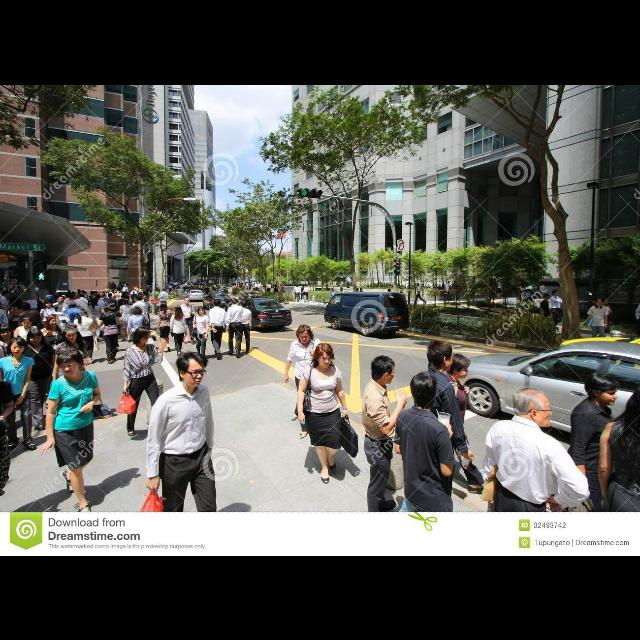head: (513, 387, 553, 427), (586, 372, 618, 406), (177, 351, 205, 387), (410, 371, 438, 401), (428, 340, 454, 370), (369, 356, 396, 384), (59, 348, 83, 377), (448, 354, 469, 378), (316, 343, 334, 369), (9, 336, 27, 356), (136, 326, 152, 344), (298, 324, 312, 344), (64, 323, 78, 342), (28, 328, 44, 344), (1, 324, 12, 340), (21, 314, 33, 328), (48, 314, 60, 326), (100, 304, 110, 314), (21, 302, 31, 310), (45, 298, 53, 308), (57, 294, 65, 304), (54, 303, 64, 311), (132, 306, 142, 314), (160, 300, 168, 308), (198, 306, 206, 314), (213, 298, 221, 306), (552, 288, 560, 296), (595, 298, 603, 306), (110, 302, 116, 312), (82, 310, 90, 316), (92, 295, 98, 303), (142, 294, 148, 302), (176, 304, 182, 312), (184, 296, 190, 304), (242, 300, 248, 308), (78, 291, 84, 297), (124, 298, 130, 304), (134, 295, 140, 301), (160, 286, 166, 292), (232, 298, 238, 304), (543, 294, 549, 300), (102, 294, 106, 300), (75, 294, 79, 298), (108, 292, 112, 296), (124, 282, 128, 286), (296, 282, 300, 286), (304, 284, 308, 286), (448, 280, 450, 284), (341, 288, 344, 290), (416, 284, 419, 286), (268, 282, 270, 284), (297, 284, 299, 286), (303, 284, 305, 286), (283, 283, 285, 285), (276, 281, 278, 283), (333, 288, 335, 290), (347, 275, 349, 277)
person: (414, 337, 478, 526), (37, 348, 104, 518), (294, 341, 360, 485), (358, 352, 410, 524), (428, 352, 488, 494), (114, 326, 166, 438), (0, 334, 38, 452), (282, 322, 326, 420), (50, 322, 90, 428), (20, 326, 56, 432), (38, 312, 66, 390), (13, 314, 42, 386), (0, 322, 22, 413), (72, 308, 100, 364), (96, 304, 120, 364), (584, 296, 610, 349), (18, 301, 42, 355), (126, 304, 150, 358), (168, 304, 192, 356), (208, 298, 228, 360), (225, 296, 245, 358), (50, 293, 72, 341), (49, 302, 71, 350), (192, 304, 210, 362), (236, 298, 254, 354), (156, 300, 174, 354), (105, 302, 124, 348), (178, 296, 196, 344), (40, 297, 59, 341), (131, 294, 149, 340), (118, 298, 136, 342), (88, 295, 104, 343), (550, 288, 564, 330), (70, 291, 86, 327), (93, 294, 109, 330), (76, 290, 90, 328), (539, 292, 551, 332), (139, 294, 151, 332), (105, 292, 118, 326), (412, 282, 428, 306), (157, 286, 169, 316), (441, 279, 455, 301), (328, 286, 338, 306), (122, 281, 130, 301), (293, 282, 301, 302), (338, 286, 346, 306), (272, 280, 280, 298), (301, 283, 309, 299), (300, 284, 308, 300), (293, 282, 299, 300), (266, 281, 272, 295), (282, 282, 288, 296), (346, 274, 352, 288)
